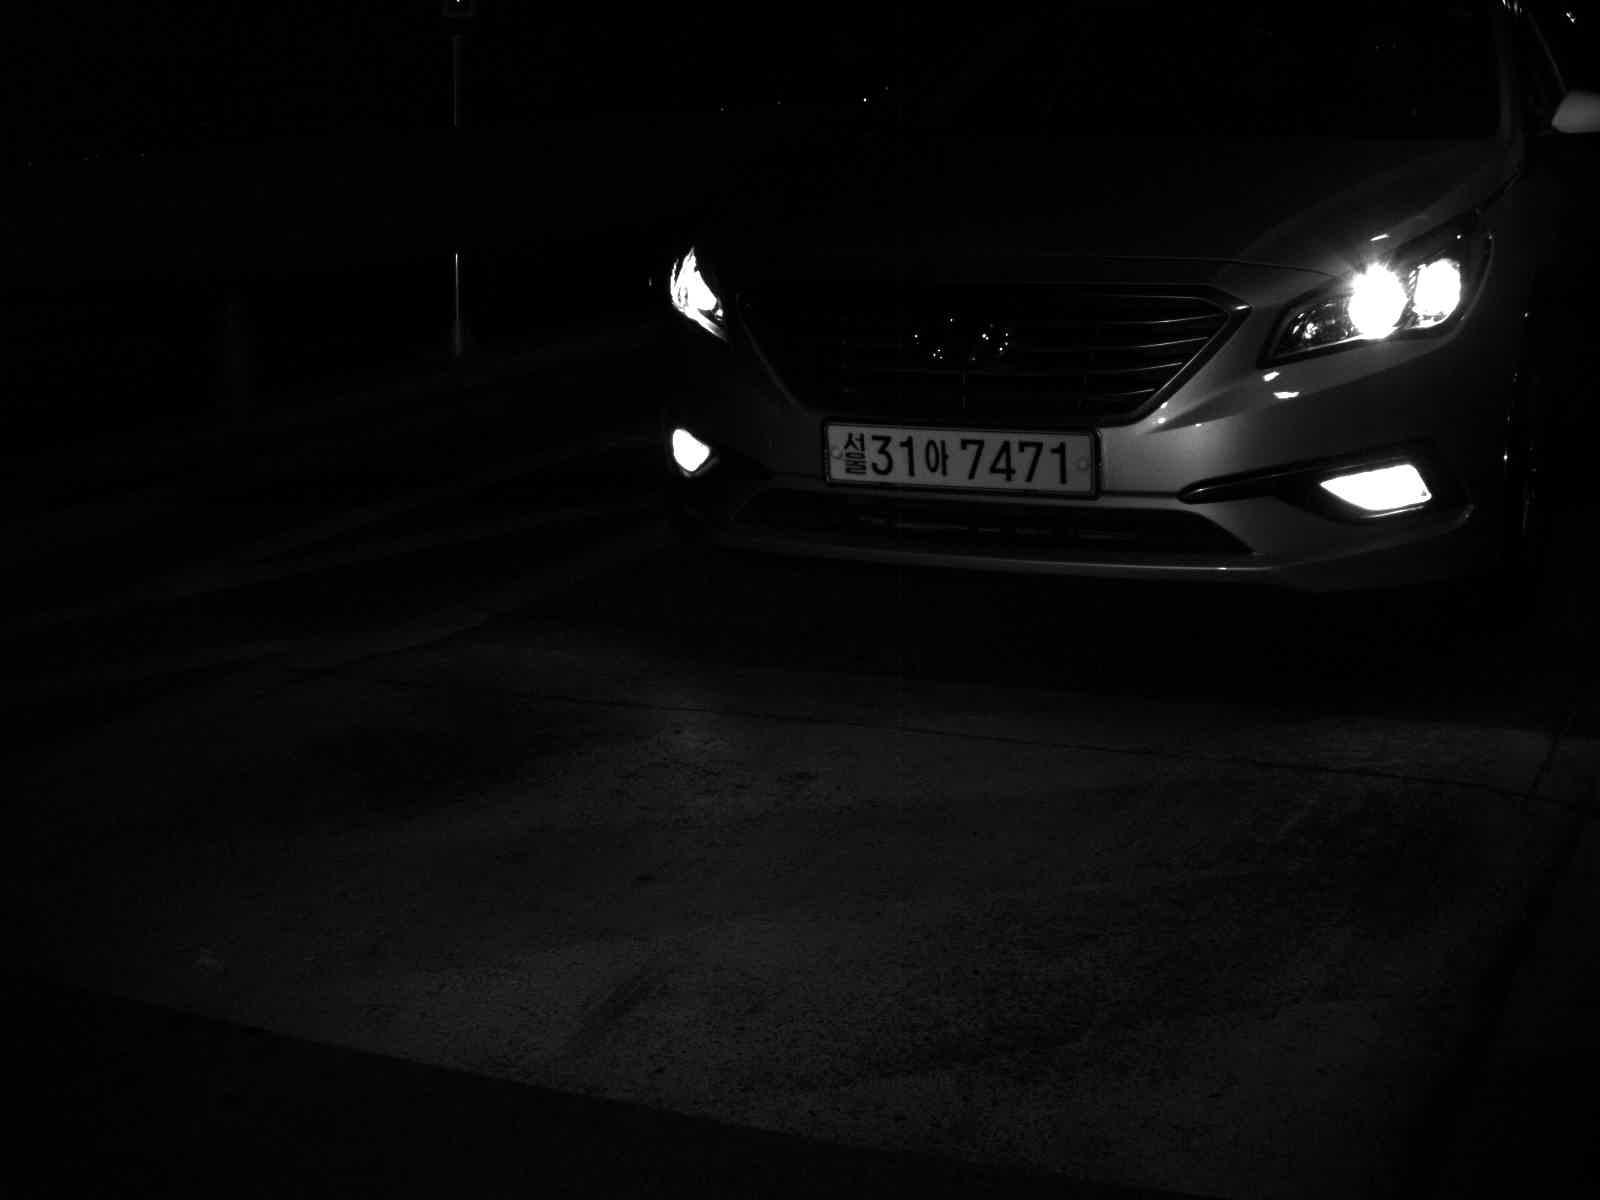P4_서울31아7471: (815, 416, 1103, 503)
서울: (837, 418, 874, 488)
아: (921, 434, 954, 488)
